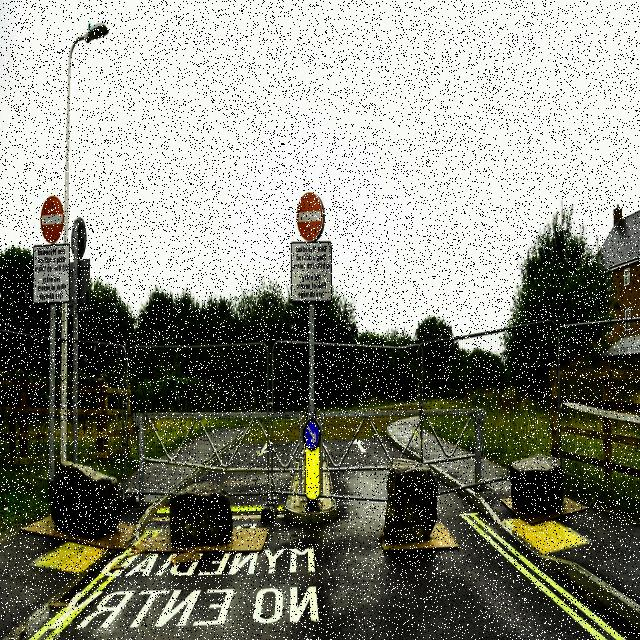no entry: (297, 193, 325, 242), (40, 196, 63, 242)
